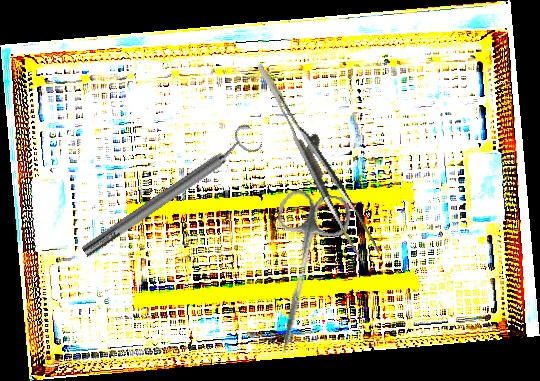Fixation Ring: (74, 121, 265, 265)
Iris Scissors: (252, 186, 354, 361)
Tissue Forceps: (257, 48, 380, 271)
